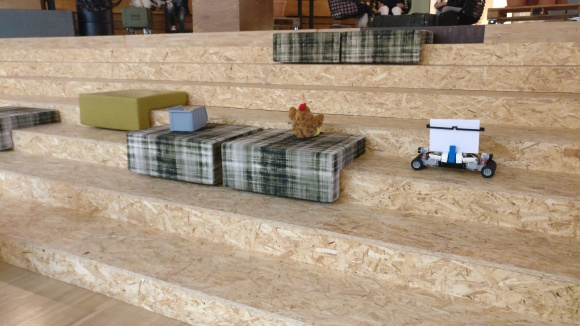car: (410, 118, 497, 178)
chicken: (287, 101, 325, 139)
tray: (167, 102, 209, 133)
